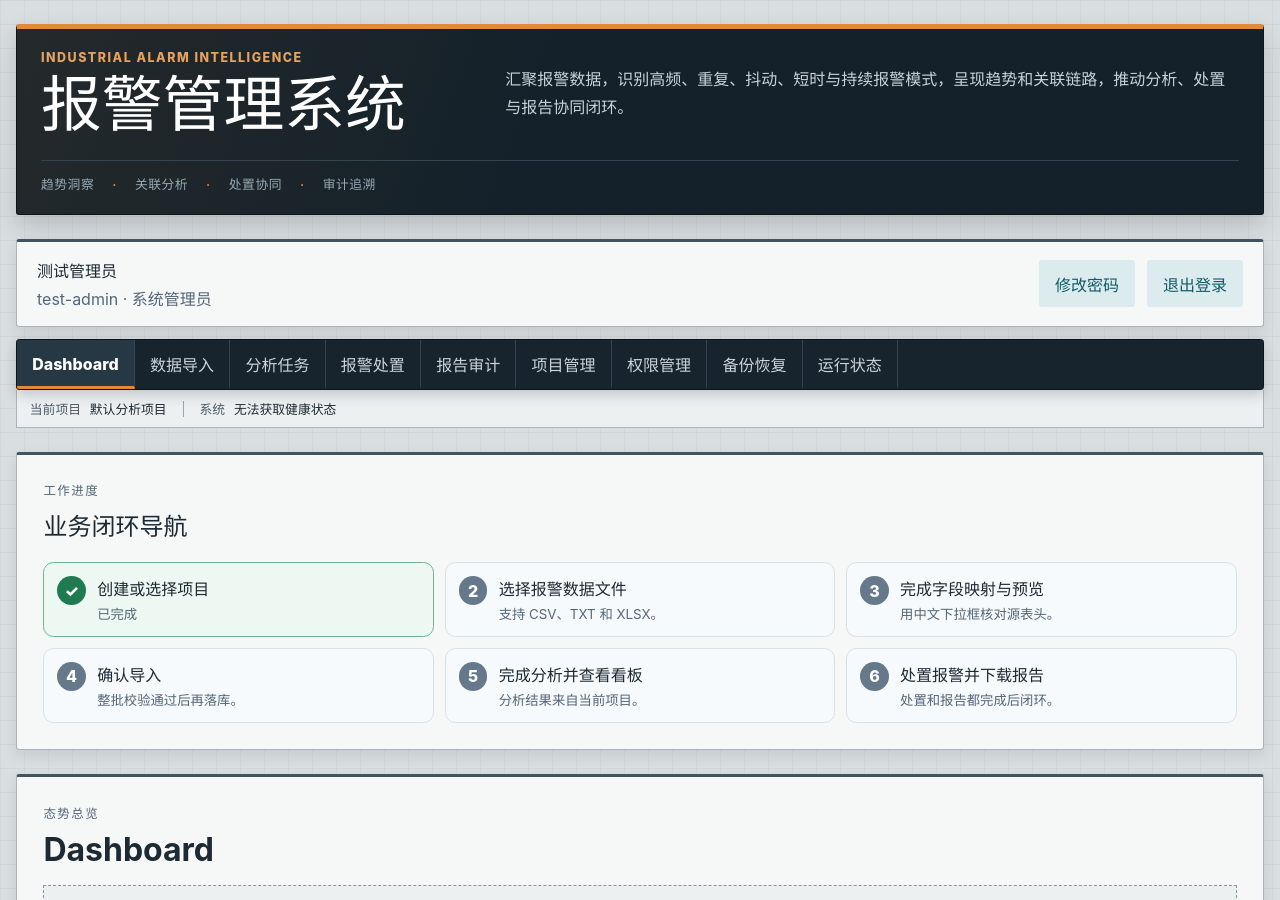
Test: M1 状态页 › 请求失败时保留 UNKNOWN 并给出可行动提示
Click the tab with test id "workspace-tab-status".
click(850, 365)  # box 803,340 -> 898,390
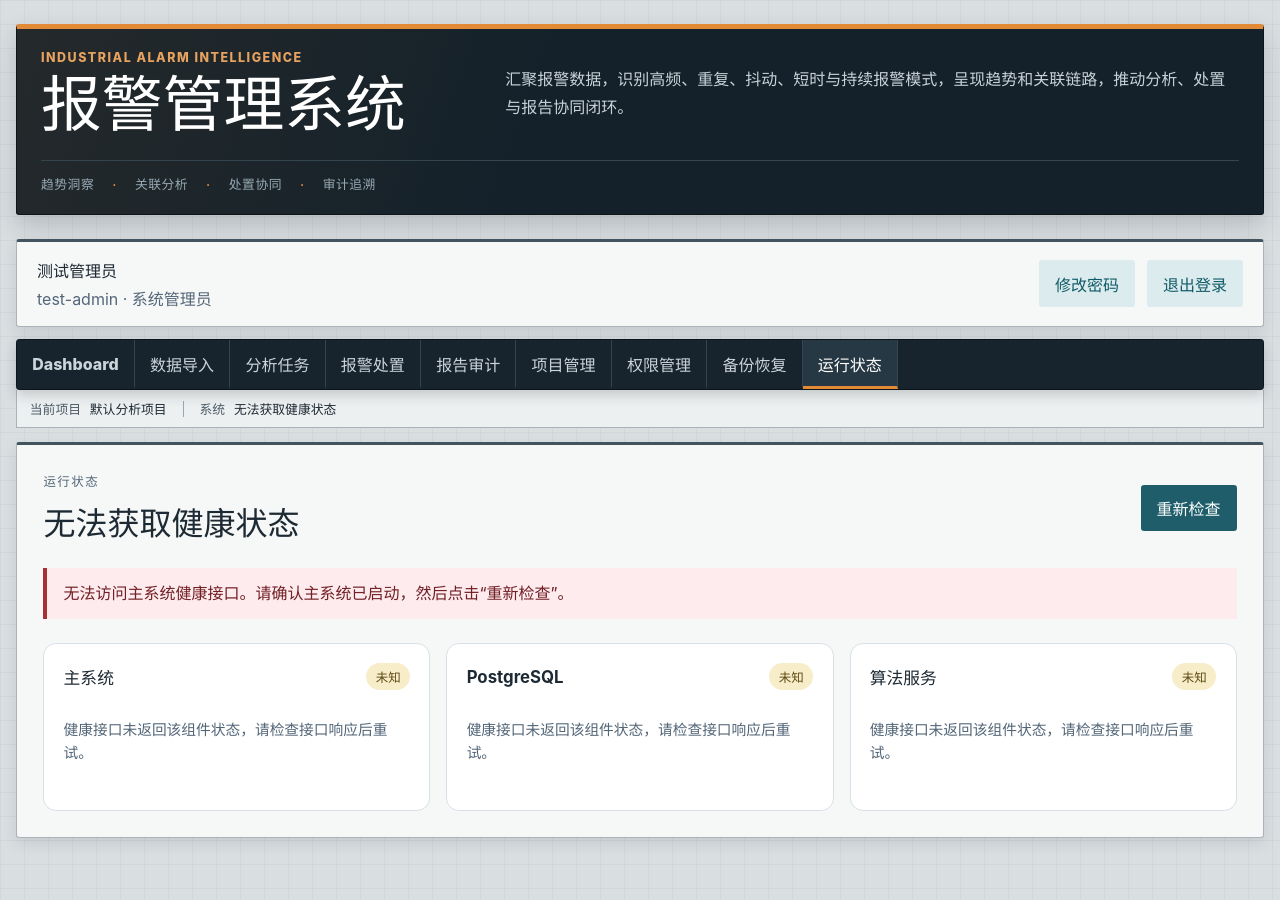
Expected: the text "未知" is shown 3 times, 366,663 -> 410,690; 769,663 -> 813,690; 1172,663 -> 1216,690
Expected: the button "重新检查" is enabled, 1141,485 -> 1237,531
